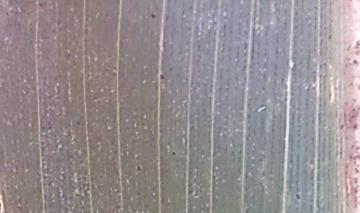tarspot: (146, 6, 159, 22), (71, 117, 85, 130), (292, 188, 304, 202), (132, 163, 145, 174), (325, 30, 335, 43), (158, 71, 166, 83), (170, 148, 178, 158)
